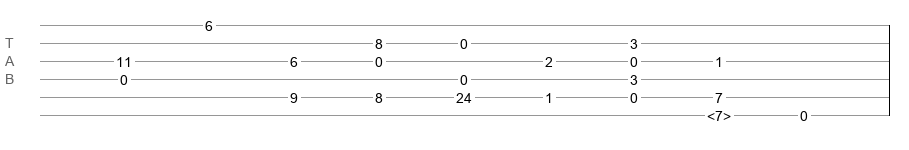0: (120, 72, 128, 82), (375, 54, 383, 64), (460, 36, 468, 46), (460, 72, 468, 82), (630, 90, 638, 100), (630, 54, 638, 64), (800, 108, 808, 118)
1: (545, 90, 553, 100), (715, 54, 723, 64)
11: (116, 54, 132, 64)
2: (545, 54, 553, 64)
24: (456, 90, 472, 100)
3: (630, 36, 638, 46), (630, 72, 638, 82)
6: (205, 18, 213, 28), (290, 54, 298, 64)
7: (715, 90, 723, 100)
8: (375, 90, 383, 100), (375, 36, 383, 46)
9: (290, 90, 298, 100)
harmonic: (707, 108, 731, 118)
